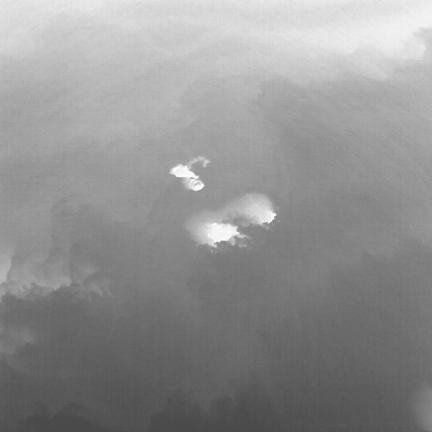flukeprints: (204, 224, 238, 246), (170, 164, 198, 178), (257, 210, 275, 223)
